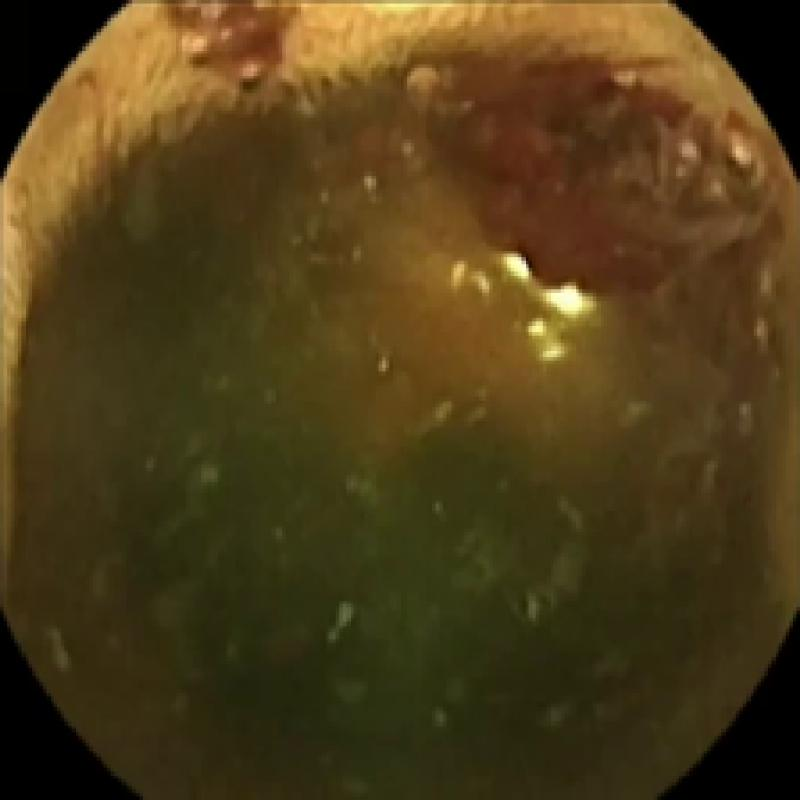bleeding: (422, 52, 678, 294), (182, 3, 300, 93)
